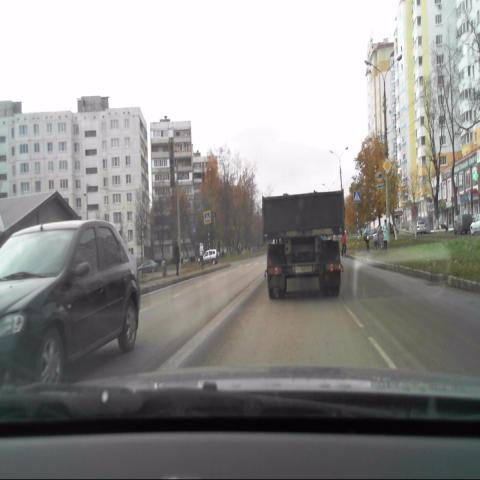2_1: (382, 157, 392, 174)
5_19_1: (352, 189, 360, 202), (204, 210, 211, 223)
